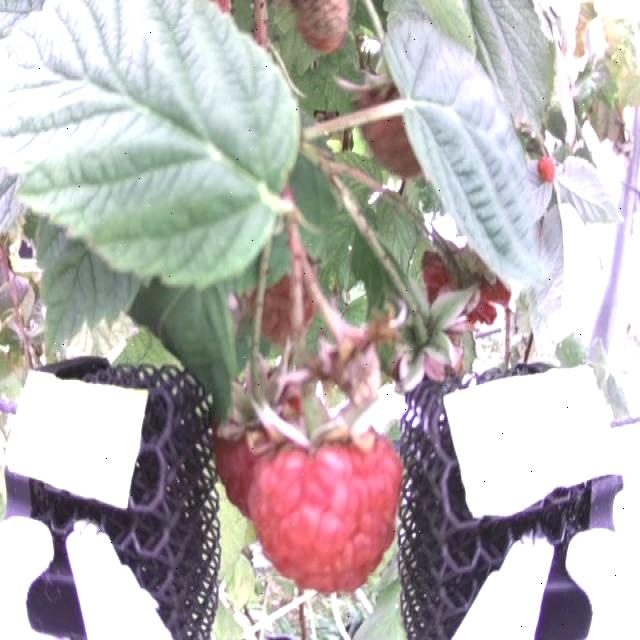Riped berries: (253, 427, 394, 594), (212, 372, 292, 498)
